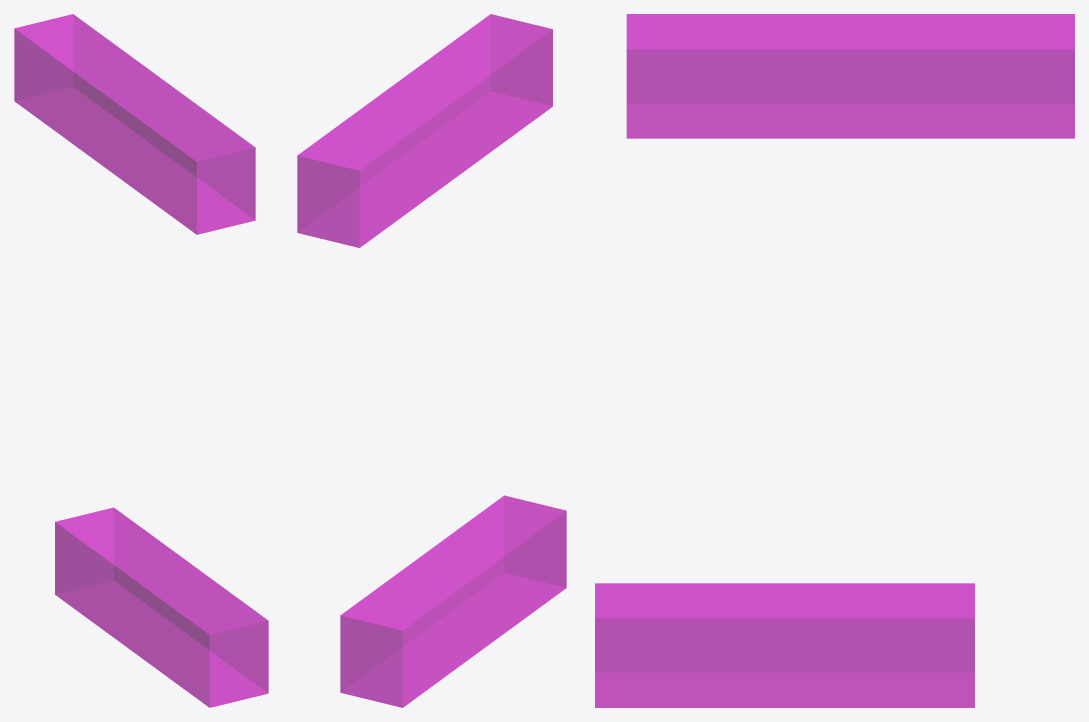
Rendered from SM_Veh_Ship_L_Rudder_03_Collision.fbx.
3 renders of one model, left to right at view 1: azimuth 30°, elevation 25°; view 2: azimuth 150°, elevation 25°; view 3: azimuth 270°, elevation 25°, orthographic. The views are drawn at different scales.
Parts seen in each view (by area): view 1: SM_Veh_Ship_L_Rudder_03_Collision; view 2: SM_Veh_Ship_L_Rudder_03_Collision; view 3: SM_Veh_Ship_L_Rudder_03_Collision.
Part boxes in pixels (x1,y1,x2,y2): SM_Veh_Ship_L_Rudder_03_Collision: (14,14,268,707); SM_Veh_Ship_L_Rudder_03_Collision: (297,14,566,707); SM_Veh_Ship_L_Rudder_03_Collision: (595,14,1074,707).
Bounding box in the file's own units: 25.35 × 221 × 146.
